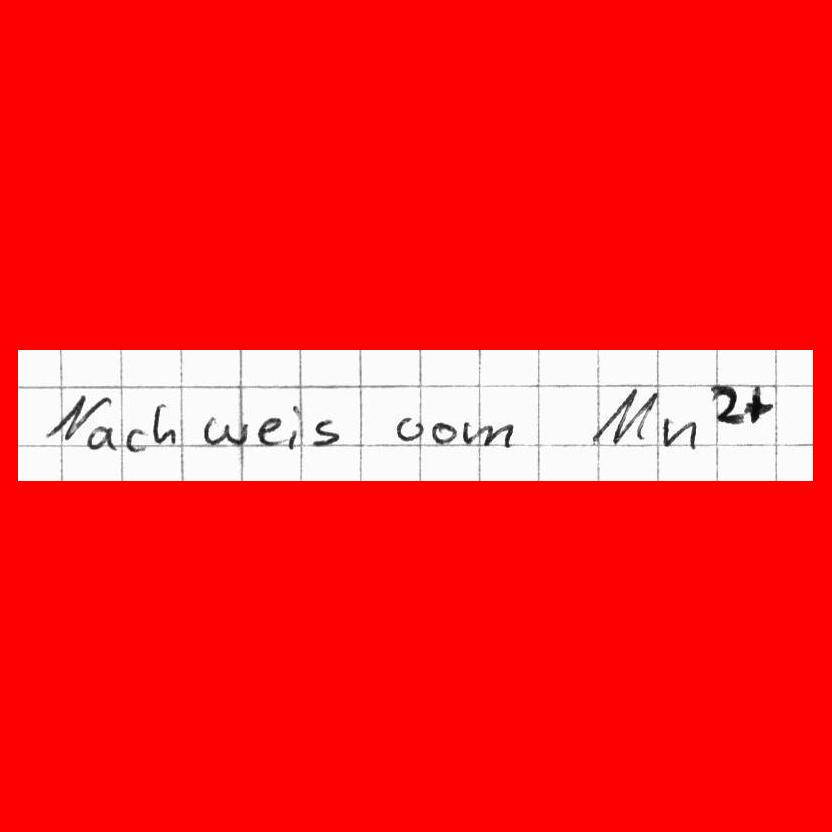Char: (590, 385, 655, 446), (42, 393, 100, 442), (202, 417, 248, 449), (743, 382, 774, 427), (466, 419, 512, 449), (710, 382, 741, 425), (660, 415, 696, 452), (149, 401, 176, 449), (86, 422, 116, 452), (393, 415, 423, 443), (311, 418, 339, 448), (256, 414, 282, 446), (285, 405, 302, 450), (124, 425, 147, 452), (432, 421, 457, 444)
